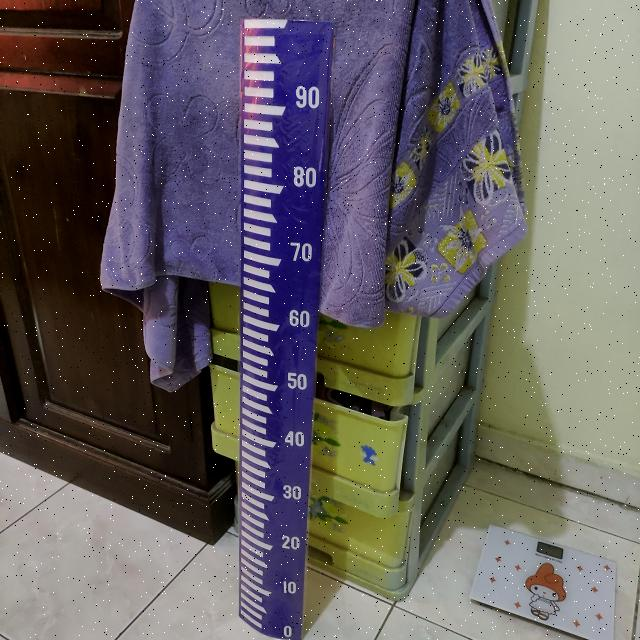10: (282, 578, 296, 597)
20: (280, 531, 302, 552)
30: (282, 482, 304, 502)
40: (281, 428, 307, 450)
50: (284, 371, 310, 392)
60: (285, 308, 314, 330)
70: (286, 239, 316, 267)
80: (292, 164, 318, 192)
90: (294, 84, 321, 108)
staff: (242, 19, 327, 633)
